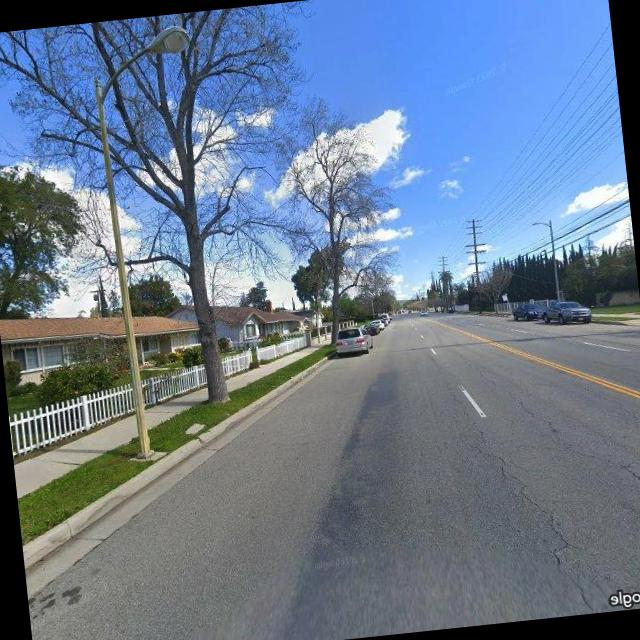pothole: (453, 378, 593, 622), (505, 365, 640, 512)
